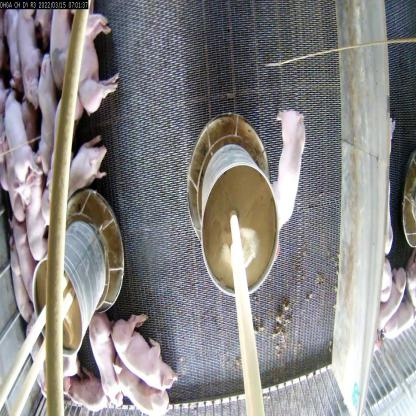Pig: (69, 0, 124, 117), (115, 302, 173, 395), (270, 103, 306, 228), (0, 76, 44, 176), (45, 142, 111, 207), (84, 311, 124, 416), (4, 221, 46, 295), (19, 173, 53, 259), (36, 51, 59, 163), (119, 371, 176, 415), (11, 236, 36, 328)
